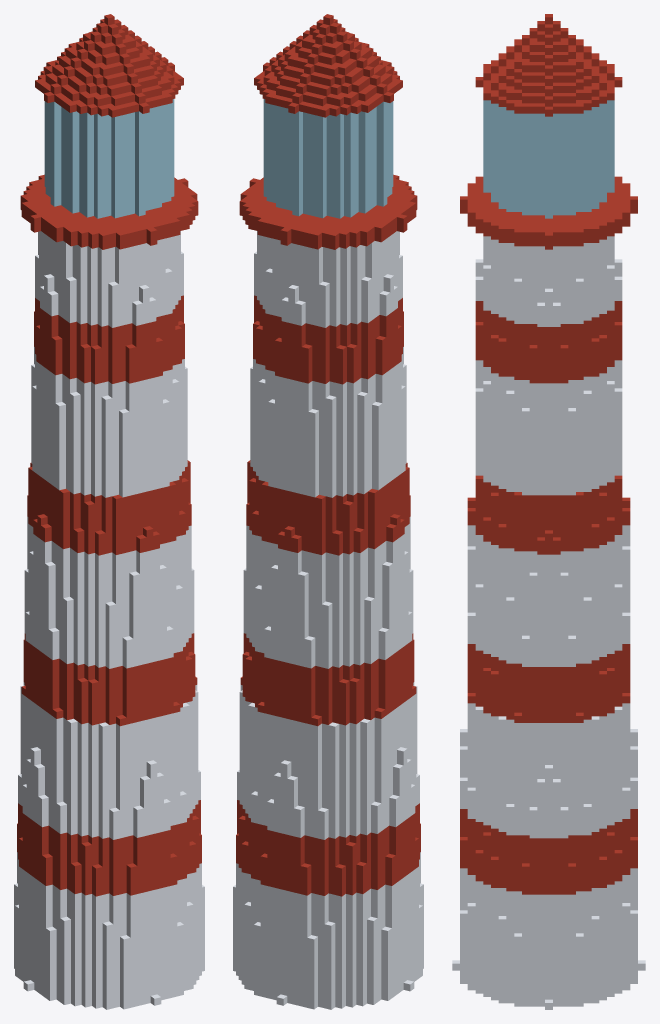
The model's file is lighthouse.obj.
3 views of the same model, side by side, from view 1: azimuth 30°, elevation 25°; view 2: azimuth 150°, elevation 25°; view 3: azimuth 270°, elevation 25° (orthographic).
Bounding box in the file's own units: 2.5 × 13.6 × 2.5.
Materials: 1 (1 with a texture image).
